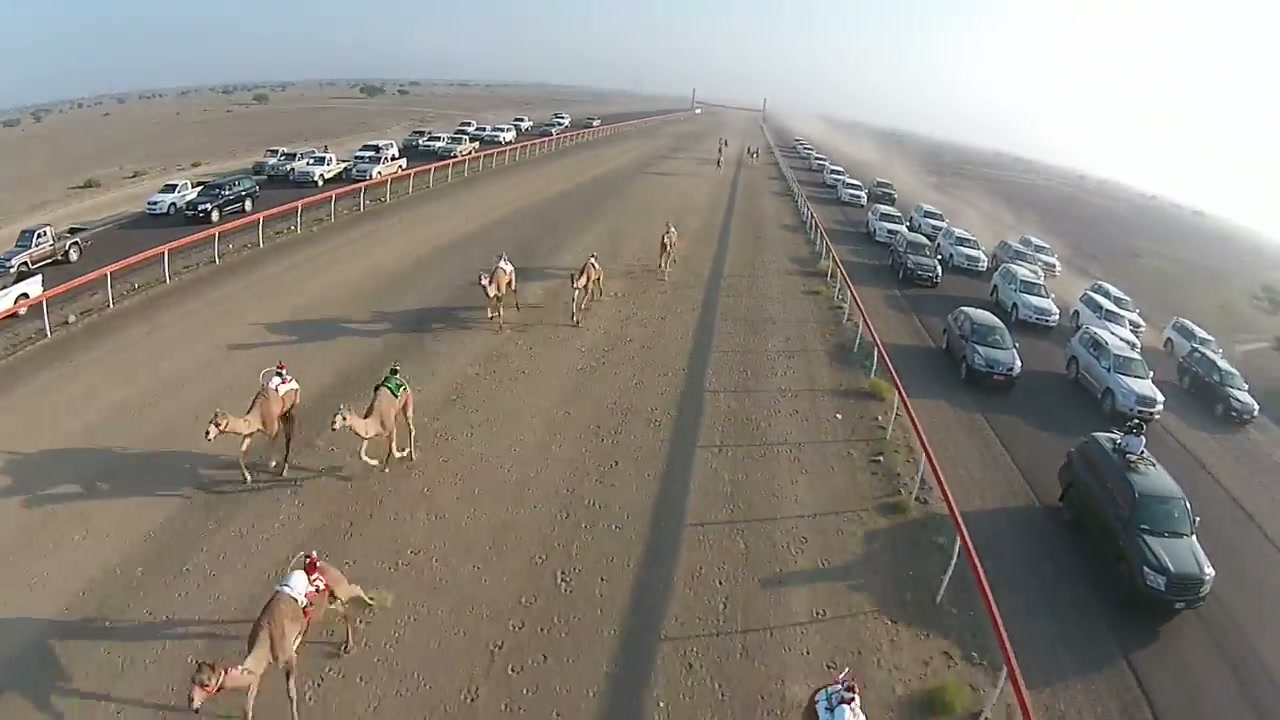animal_foot_print: (462, 338, 628, 718)
